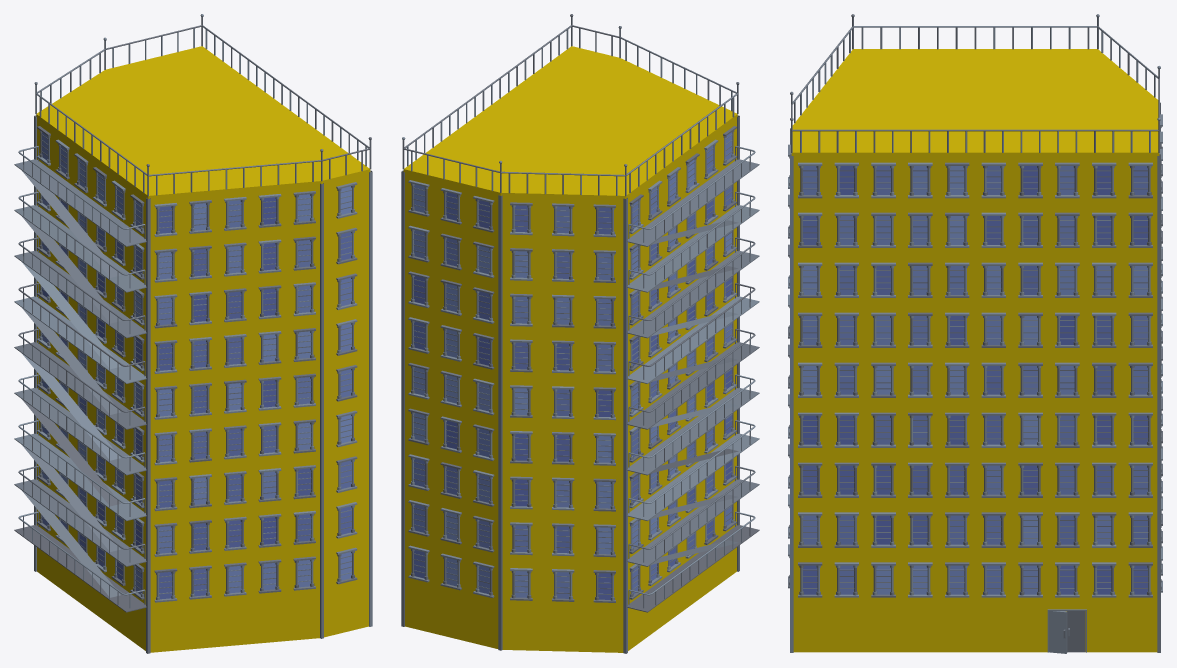
The model's file is Building Procedural.022.fbx.
3 renders of one model, left to right at view 1: azimuth 30°, elevation 25°; view 2: azimuth 150°, elevation 25°; view 3: azimuth 270°, elevation 25°, orthographic. The views are drawn at different scales.
Visible parts, largest first — view 1: Building Procedural.022; view 2: Building Procedural.022; view 3: Building Procedural.022.
Part boxes in pixels (box(x1,y1,x2,y2)): Building Procedural.022: box(14, 14, 372, 653); Building Procedural.022: box(401, 14, 759, 653); Building Procedural.022: box(788, 14, 1162, 653).
Bounding box in the file's own units: 1520 × 3210 × 2040.
